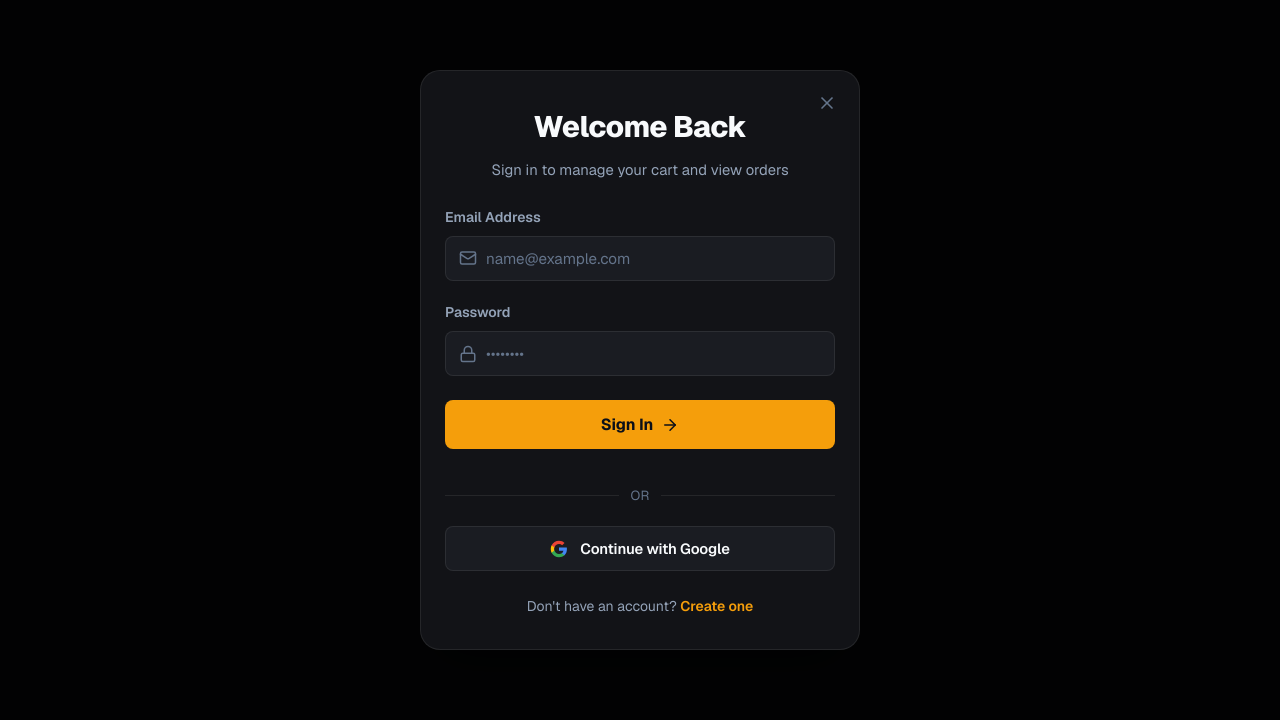
Test case: Phase 2: Authentication Frontend Tests › T-AUTH-UI-01: Displays inline validation errors when submitted with empty fields
Click the button "Sign In" at (640, 425), box top-left (445, 400), bottom-right (835, 449)
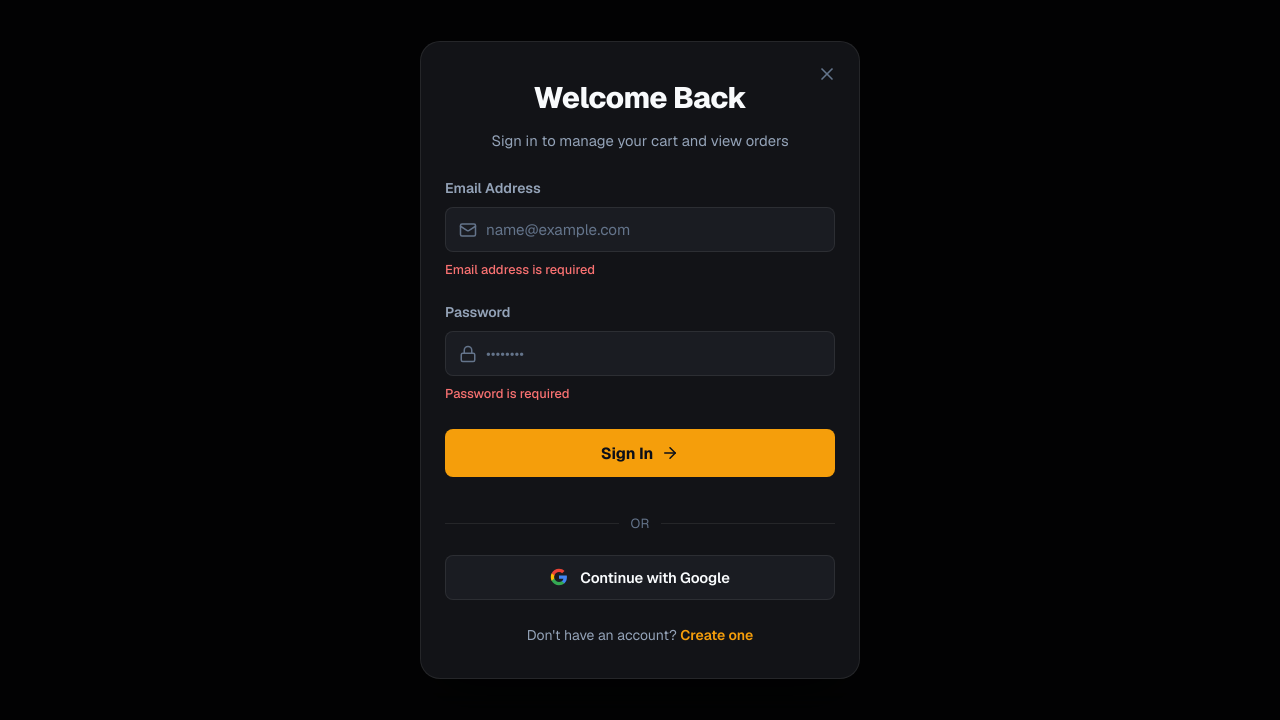
Now the text "Email address is required" is shown, box top-left (445, 262), bottom-right (595, 278)
Now the text "Password is required" is shown, box top-left (445, 385), bottom-right (570, 402)
